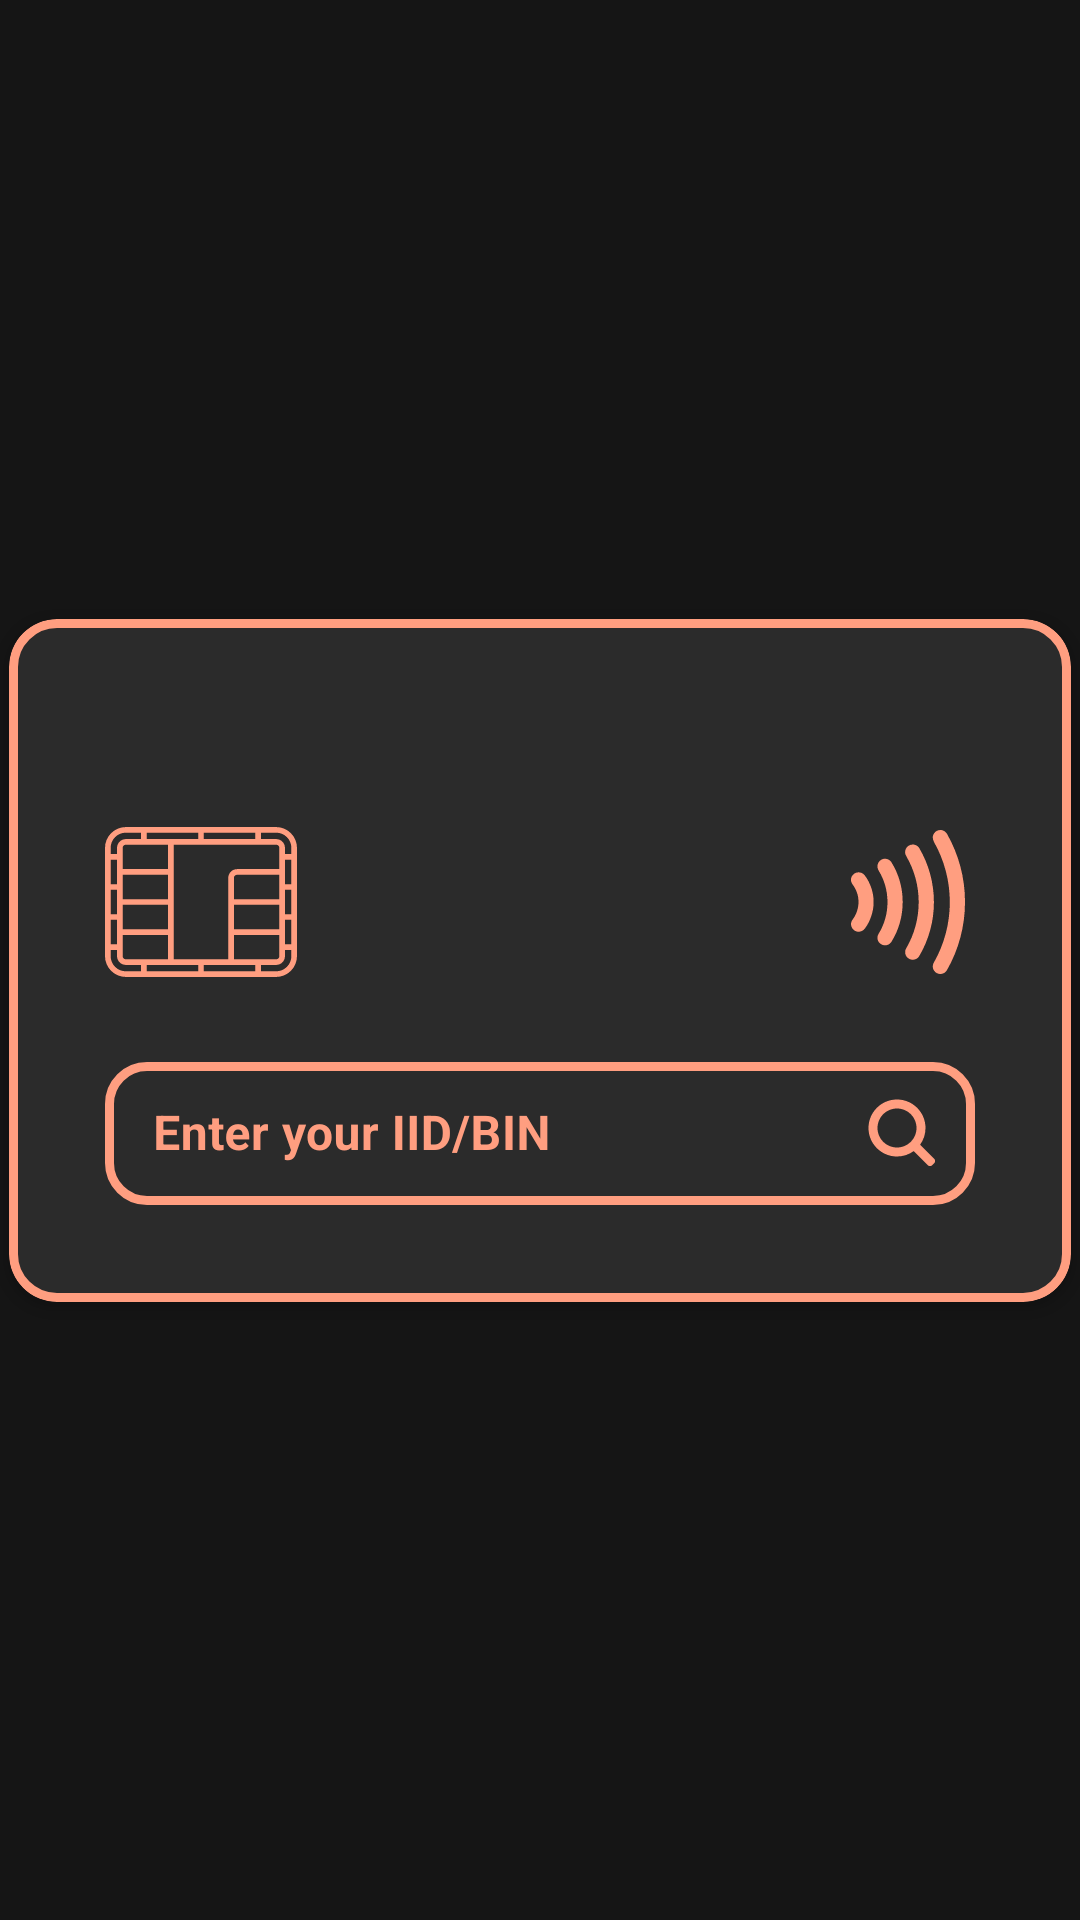

Where icons sit on this 1080*1920 app screen, as (x1=x1, y1=y1, x2=x2, y2=y2):
chip: (x1=105, y1=827, x2=297, y2=977)
contactless indicator: (x1=851, y1=830, x2=965, y2=974)
